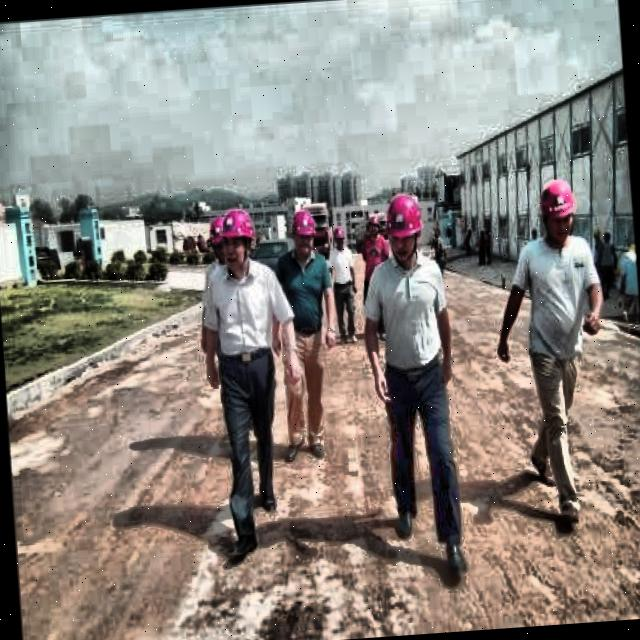helmet: (379, 189, 427, 263), (531, 173, 579, 244), (218, 206, 258, 266), (286, 198, 321, 263), (209, 215, 232, 272), (365, 210, 381, 240), (332, 224, 348, 252)
